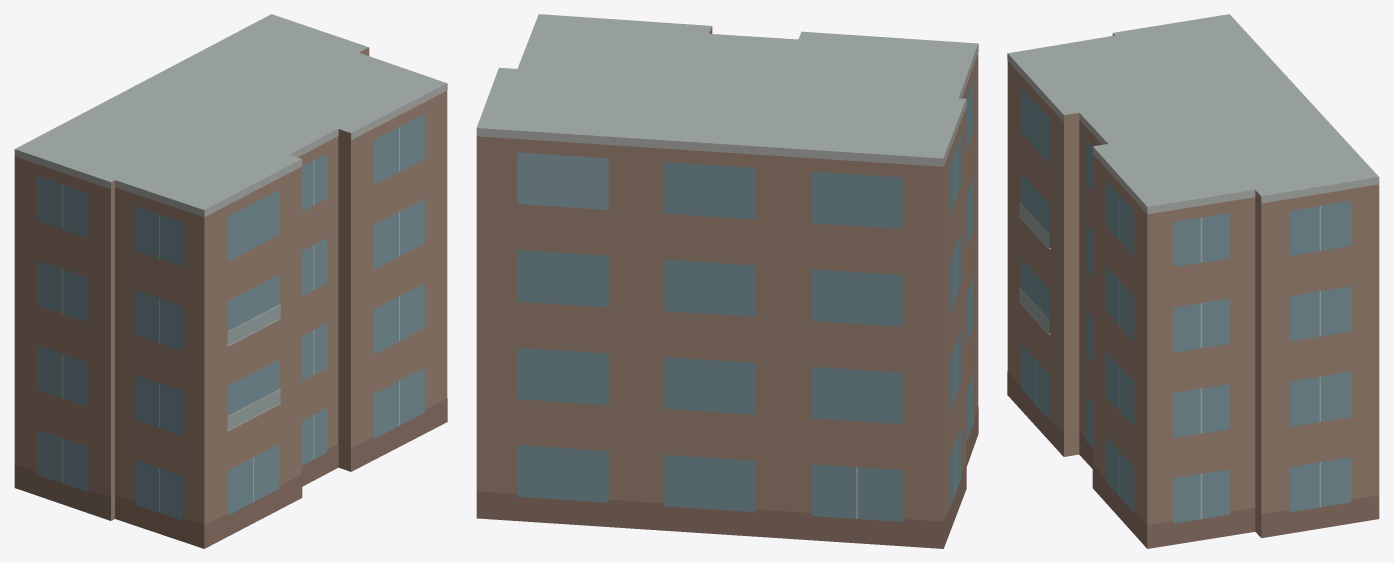
The model's file is survey-upis-32719084.glb.
3 views of the same model, side by side, from view 1: azimuth 30°, elevation 25°; view 2: azimuth 150°, elevation 25°; view 3: azimuth 270°, elevation 25° (orthographic). The views are drawn at different scales.
Parts seen in each view (by area): view 1: survey-upis-32719084.tmp; view 2: survey-upis-32719084.tmp; view 3: survey-upis-32719084.tmp.
Part boxes in pixels (x1,y1,x2,y2): survey-upis-32719084.tmp: [14, 14, 447, 548]; survey-upis-32719084.tmp: [476, 14, 978, 548]; survey-upis-32719084.tmp: [1007, 14, 1379, 548].
Bounding box in the file's own units: 13.91 × 11.48 × 11.32.
